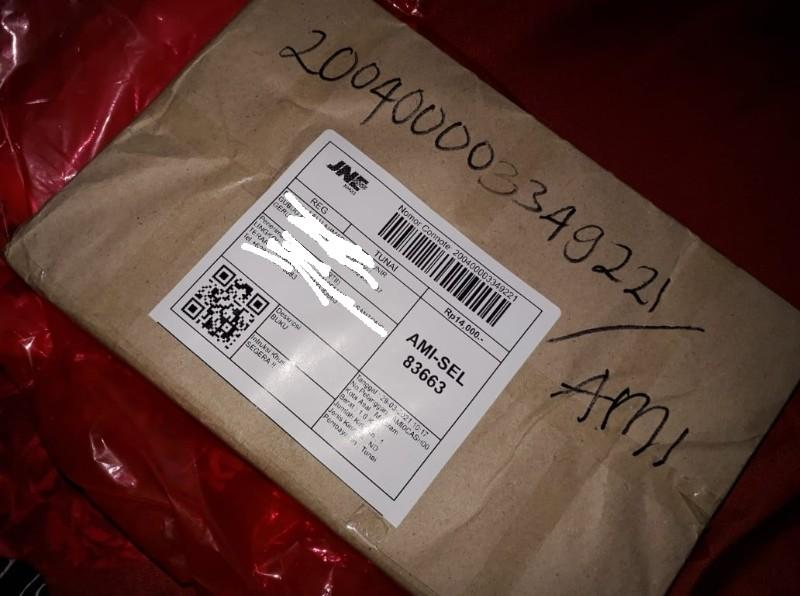undamaged: (0, 0, 798, 594)
